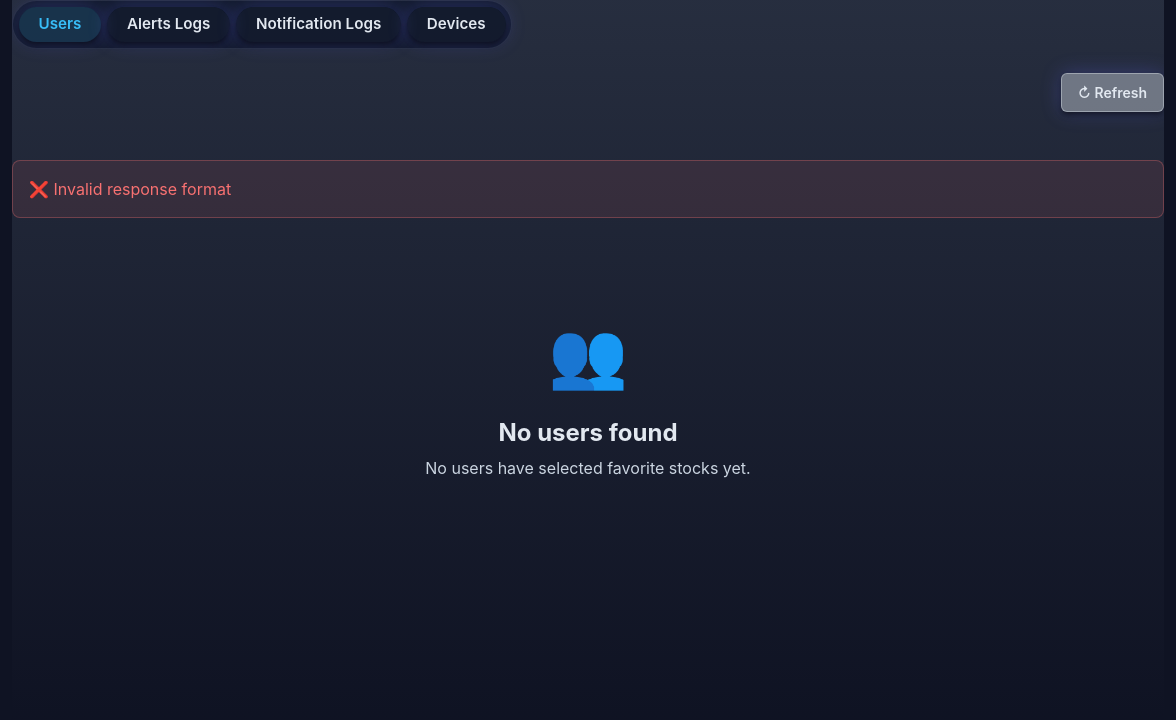
it: MonitoringSection (Legacy MonitoringPage Tests) › should render alerts table with data
# Click on Alerts Logs tab (MonitoringSection defaults to "users" tab)
Click the button "Alerts Logs": (169, 24) [107,7,230,42]
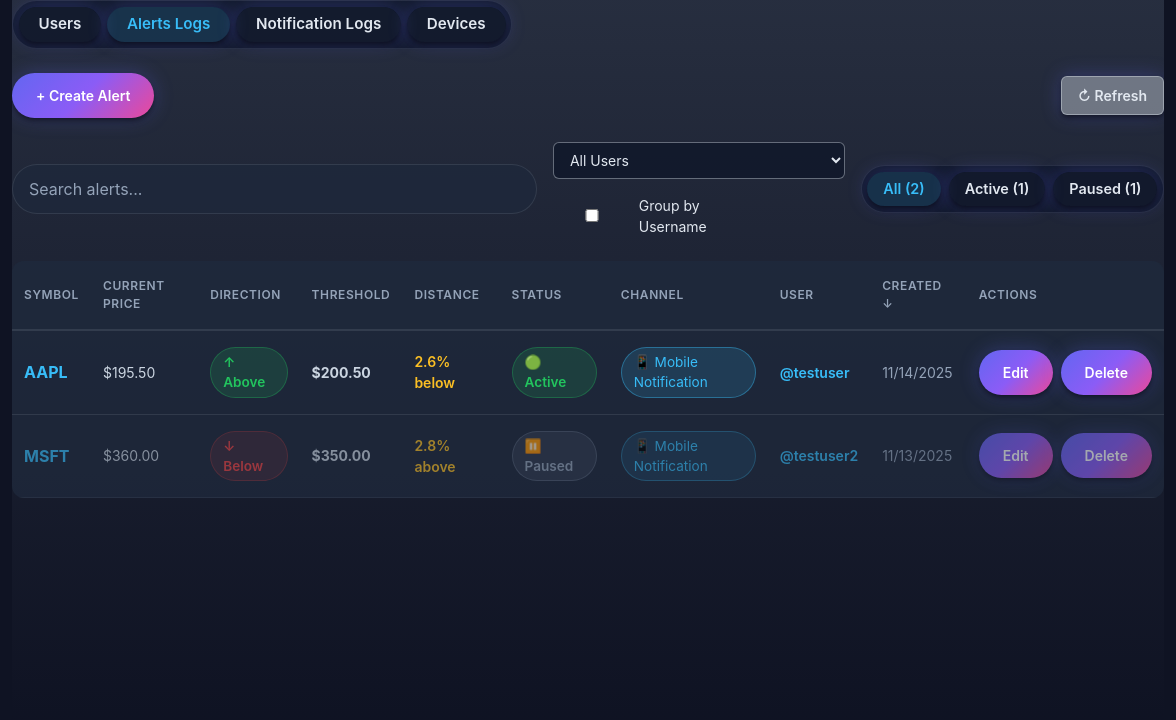
Expected: the text "AAPL" is shown, [24,362,68,382]
Expected: the text "MSFT" is shown, [24,446,70,466]
Expected: the text "↑ Above" is shown, [210,347,288,398]
